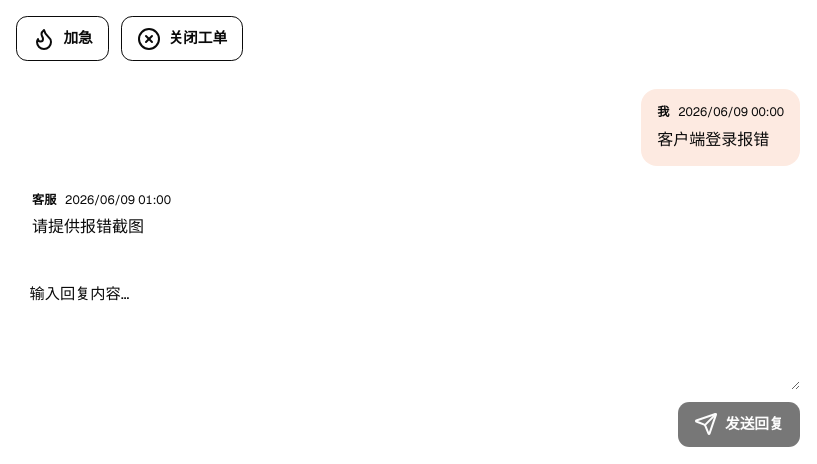
Test case: TicketThread › handles 409 TICKET_CLOSED — shows closed notice and disables composer
expect the text "客户端登录报错" is shown: met, box [657,127,784,152]
Type "还在吗" into the text box with placeholder "输入回复内容…".
click(408, 330); type("还在吗")  # box [16,270,800,390]
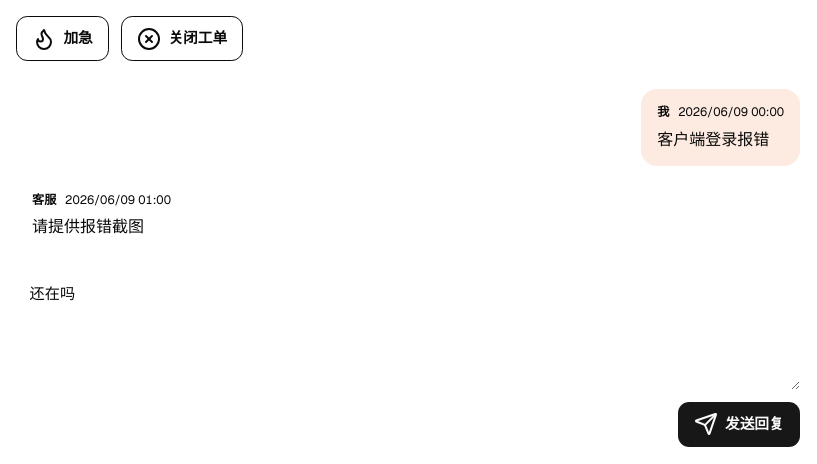
Click the button "发送回复".
click(739, 424)  # box [678,402,800,447]
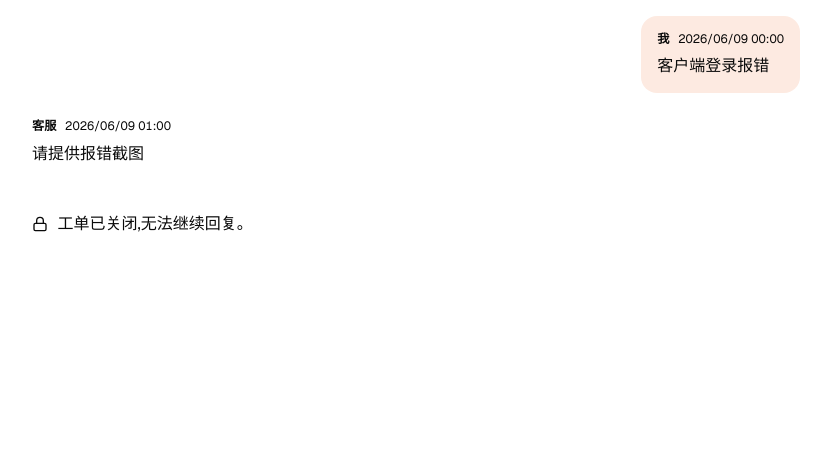
expect the text "工单已关闭,无法继续回复。" is shown: met, box [32,213,253,234]
expect the text box with placeholder "输入回复内容…" is gone: met
